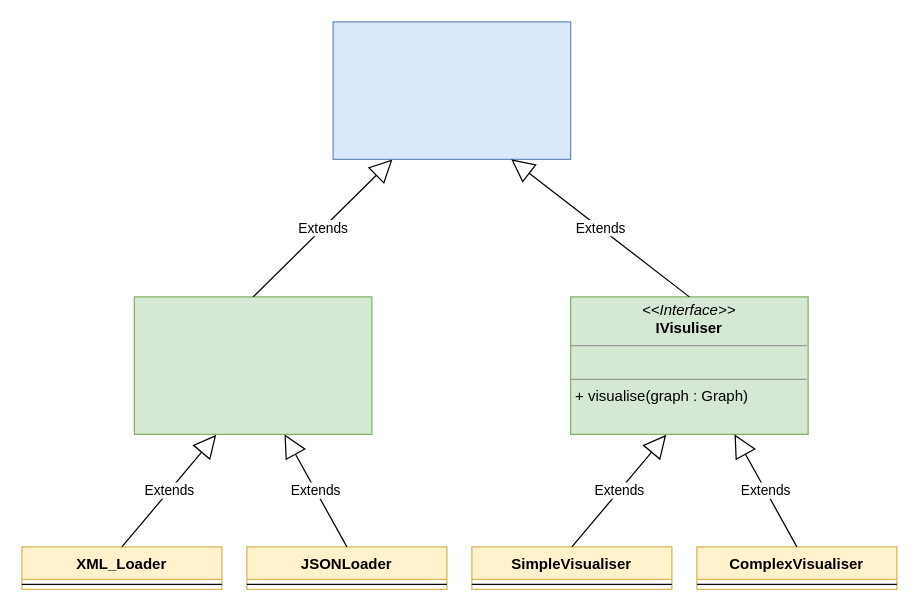
Some shapes in this 919 by 611 pixel diagram are drawn without their labels. The shapes that lost their labels are listed below. From the top down, each one's centre as x and y in pixels, then its label:
the point at 451,90: <<Interface>> ServiceBase + identifier() + name()
the point at 252,365: <<Interface>> ILoader + load(path : str)
